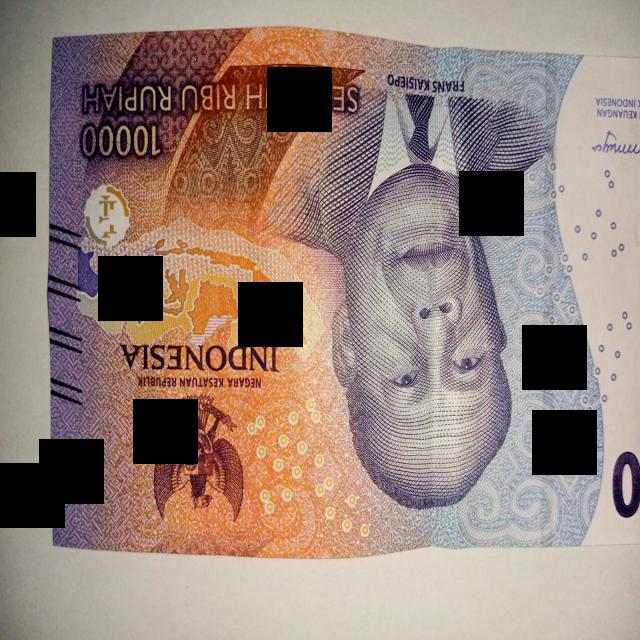sepuluhribu rupiah: (48, 28, 640, 557)
